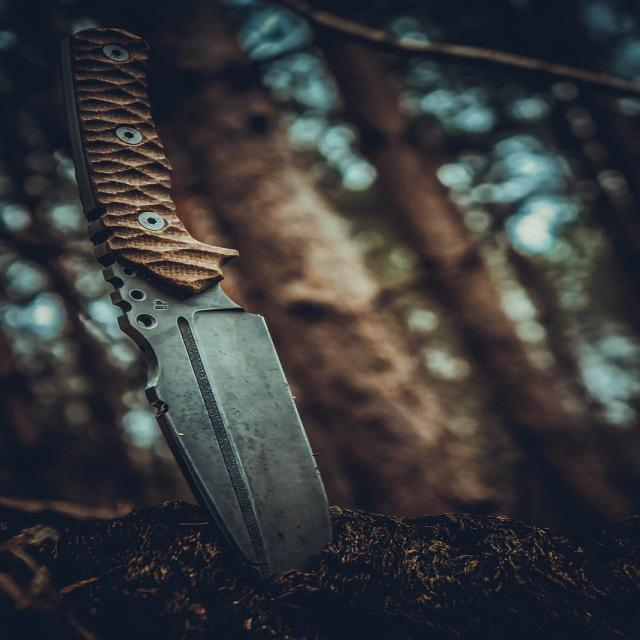knife: (69, 27, 331, 574)
